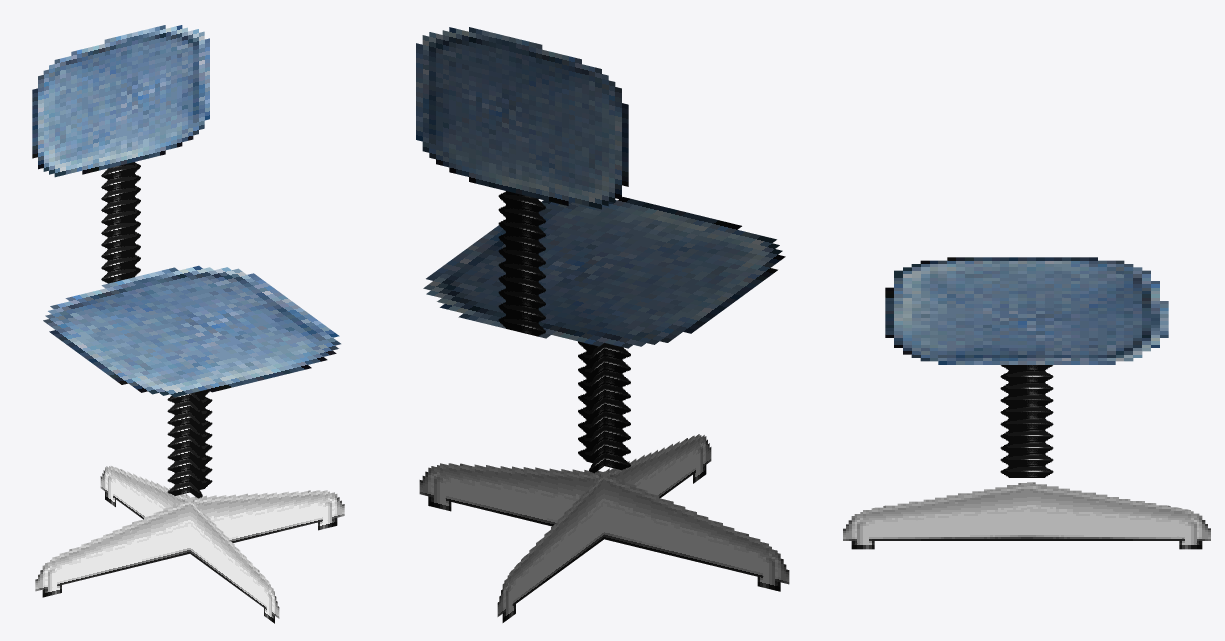
The model's file is Pswivel_chair1Z.obj.
The picture shows the model from 3 angles, left to right: view 1: azimuth 30°, elevation 25°; view 2: azimuth 150°, elevation 25°; view 3: azimuth 270°, elevation 25°; orthographic projection. The views are drawn at different scales.
Bounding box in the file's own units: 654 × 962 × 654.
Materials: 5 (5 with a texture image).
